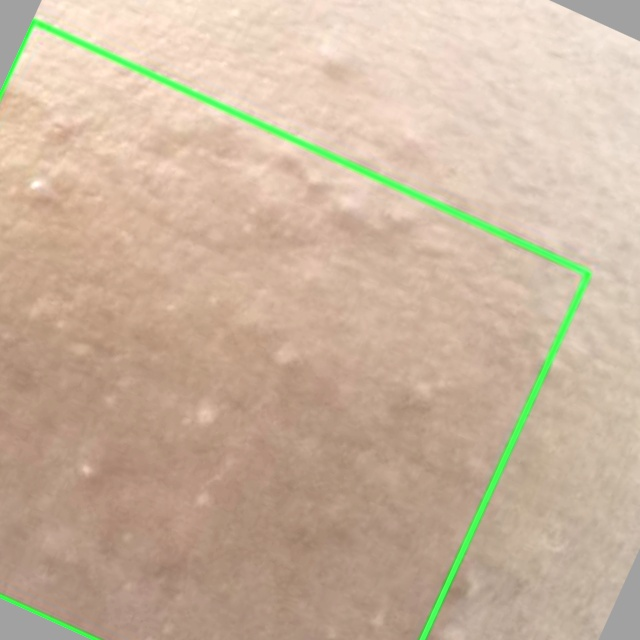Eczema: (0, 21, 588, 639)
